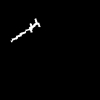double_crochet: (11, 19, 39, 41)
